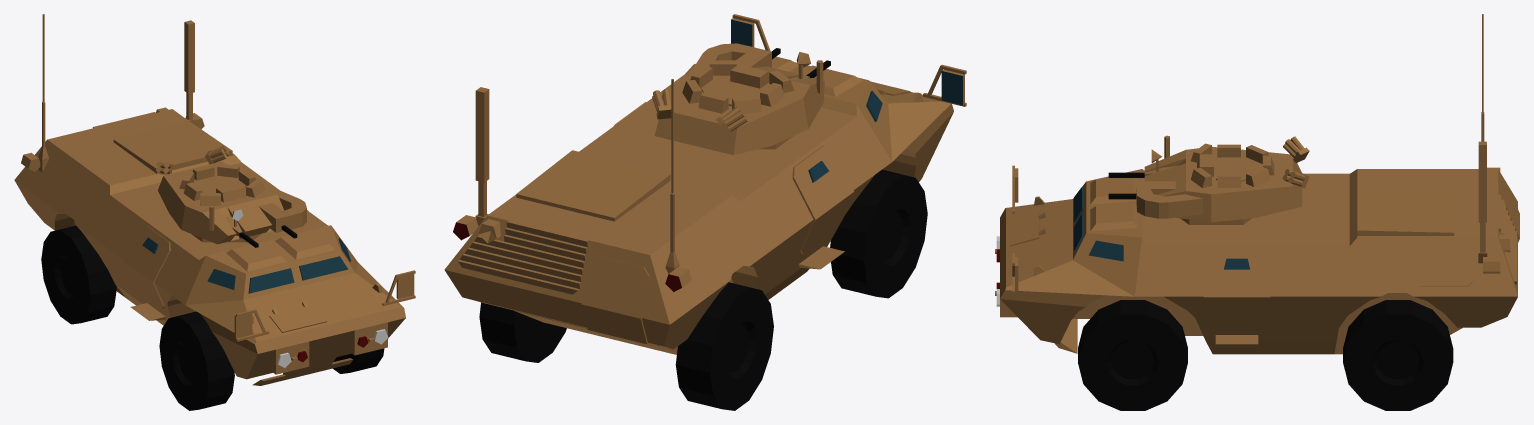
File: M1117_NATO-Desert.fbx
3 views of the same model, side by side, from view 1: azimuth 30°, elevation 25°; view 2: azimuth 150°, elevation 25°; view 3: azimuth 270°, elevation 25° (orthographic). The views are drawn at different scales.
Visible parts, largest first — view 1: M1117_Body, M1117_Turret, M1117_Wheel-Forward_R, M1117_Wheel-Back_R, M1117_Windows, M1117_Turret_Cannons, M1117_Wheel-Forward_L; view 2: M1117_Body, M1117_Turret, M1117_Wheel-Forward_R, M1117_Wheel-Back_R, M1117_Wheel-Back_L, M1117_Turret_Cannons, M1117_Body_Mirrors, M1117_Windows; view 3: M1117_Body, M1117_Wheel-Back_L, M1117_Wheel-Forward_L, M1117_Turret, M1117_Turret_Cannons, M1117_Windows.
Part boxes in pixels (x1=…): M1117_Body: x1=14, y1=14, x2=415, y2=385; M1117_Turret: x1=156, y1=145, x2=284, y2=244; M1117_Wheel-Forward_R: x1=159, y1=311, x2=234, y2=410; M1117_Wheel-Back_R: x1=41, y1=225, x2=116, y2=324; M1117_Windows: x1=142, y1=237, x2=350, y2=293; M1117_Turret_Cannons: x1=224, y1=190, x2=306, y2=235; M1117_Wheel-Forward_L: x1=333, y1=348, x2=384, y2=373; M1117_Body: x1=444, y1=14, x2=966, y2=354; M1117_Turret: x1=652, y1=60, x2=824, y2=155; M1117_Wheel-Forward_R: x1=830, y1=169, x2=927, y2=298; M1117_Wheel-Back_R: x1=675, y1=282, x2=773, y2=410; M1117_Wheel-Back_L: x1=479, y1=302, x2=566, y2=362; M1117_Turret_Cannons: x1=693, y1=43, x2=810, y2=80; M1117_Body_Mirrors: x1=731, y1=19, x2=962, y2=105; M1117_Windows: x1=808, y1=91, x2=882, y2=182; M1117_Body: x1=995, y1=14, x2=1519, y2=354; M1117_Wheel-Back_L: x1=1343, y1=300, x2=1453, y2=410; M1117_Wheel-Forward_L: x1=1078, y1=300, x2=1187, y2=410; M1117_Turret: x1=1144, y1=135, x2=1309, y2=222; M1117_Turret_Cannons: x1=1136, y1=149, x2=1202, y2=218; M1117_Windows: x1=1074, y1=187, x2=1249, y2=269.
Bounding box in the file's own units: 268 × 394 × 608.
